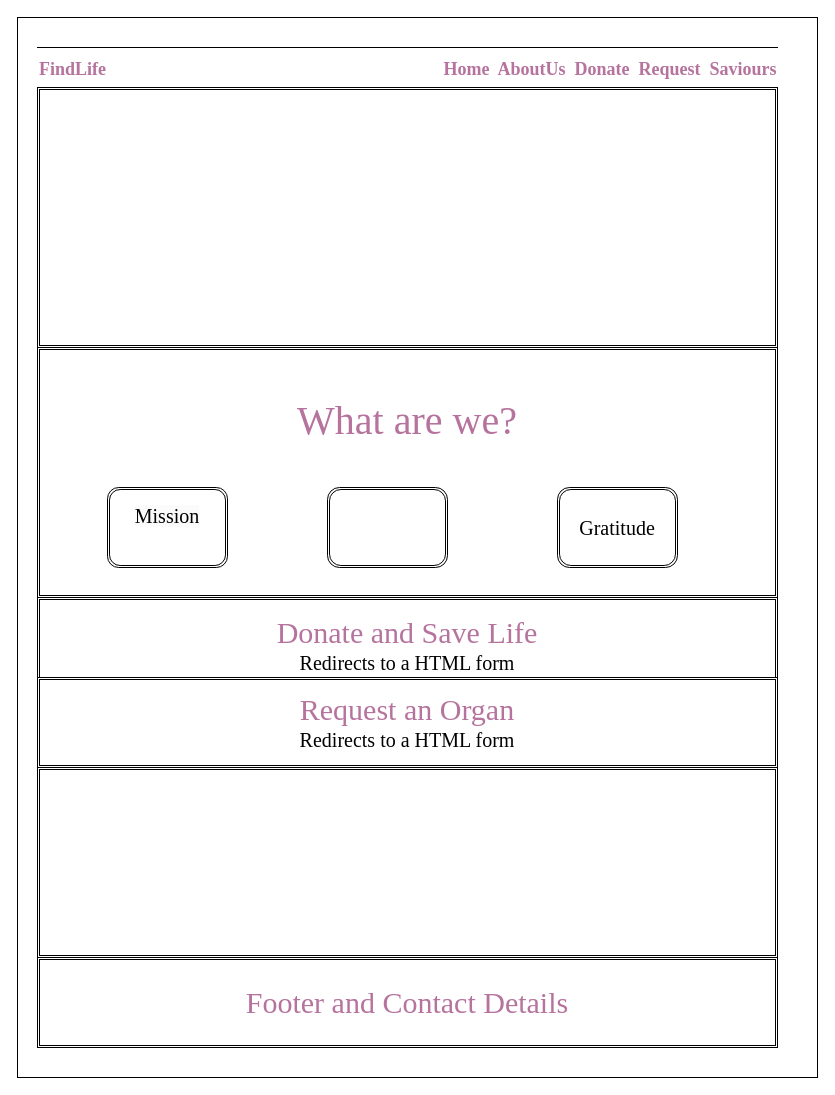
This 835x1095 diagram has some shape labels left out. Each missing label, with the centre of its shape:
Awareness on Organ Donation: pixel 407 217
Lives saved by Organ Donation Carousels of feedback: pixel 407 862
Vision: pixel 387 527
